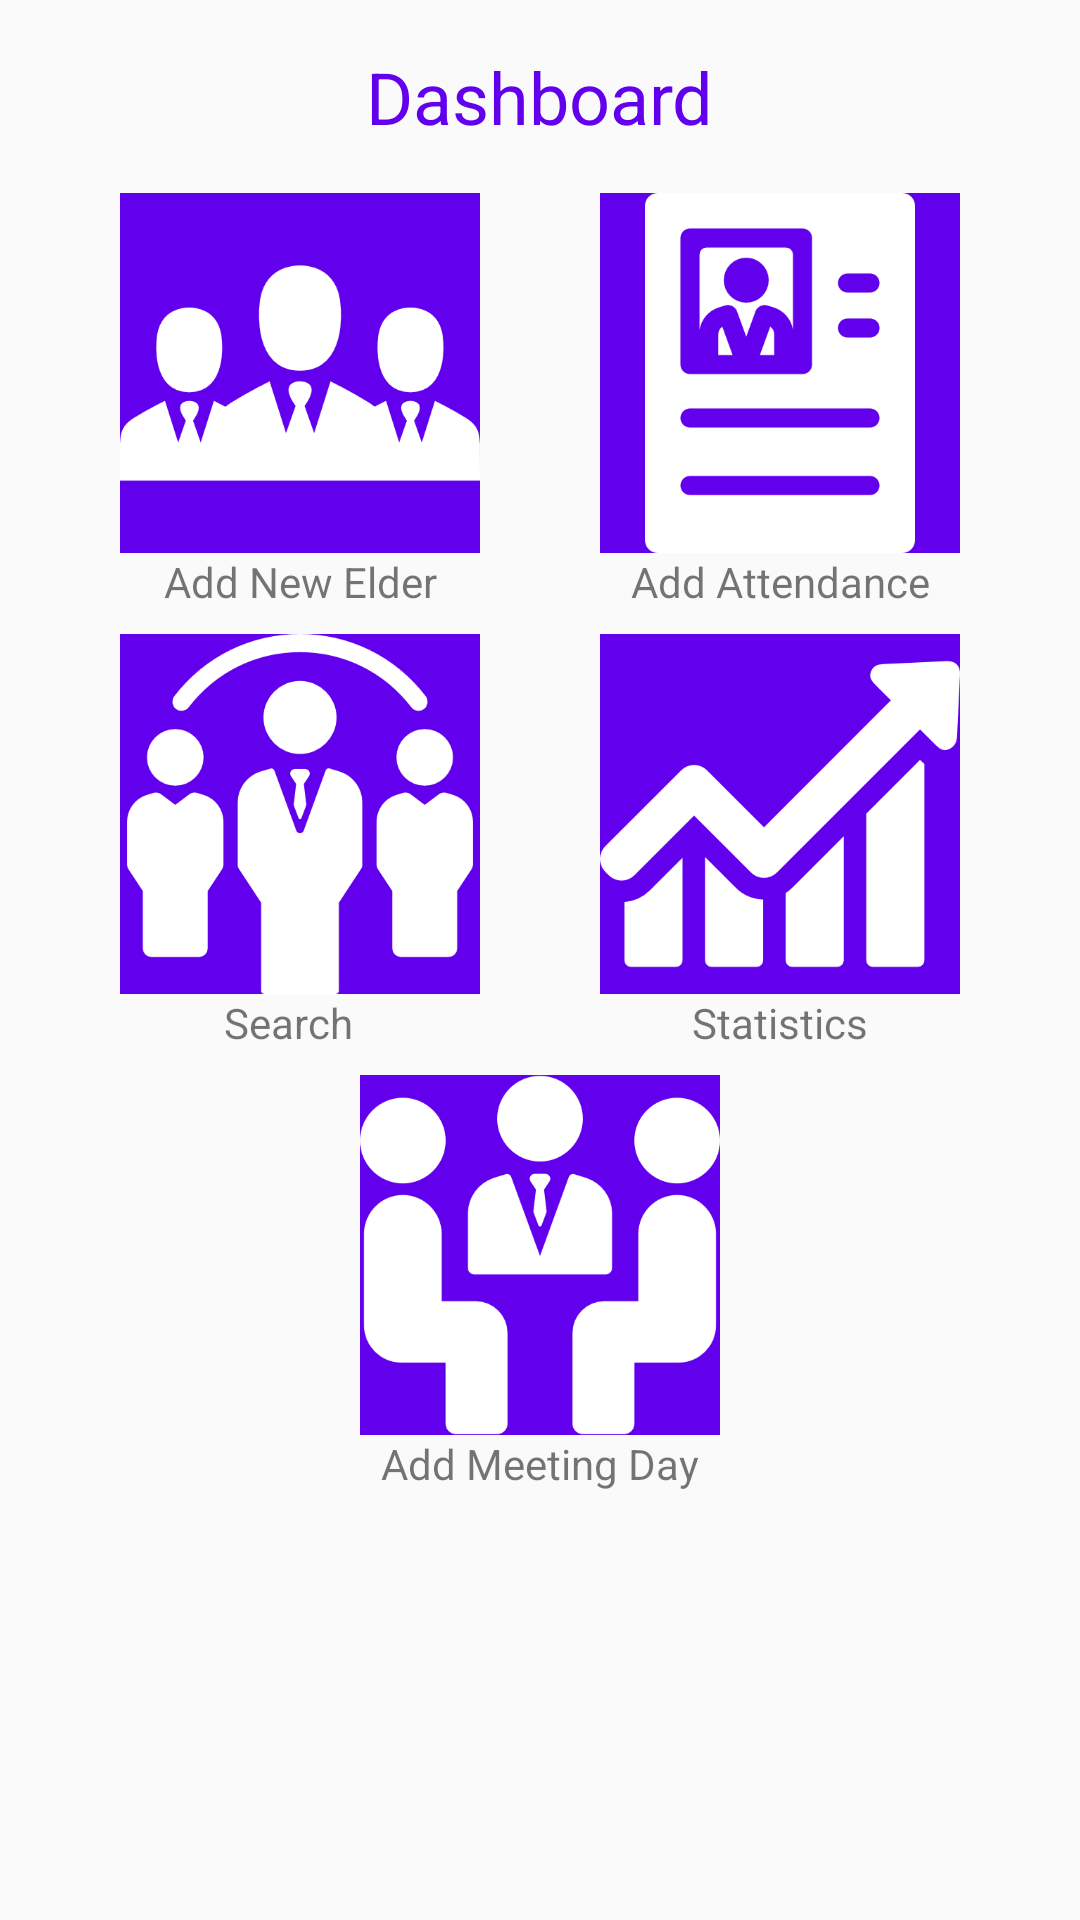

Where icons sit on this 1080 × 1920 app screen, as (x1, y1, x2, y2):
linechart: (600, 634, 960, 994)
resume: (600, 193, 960, 553)
